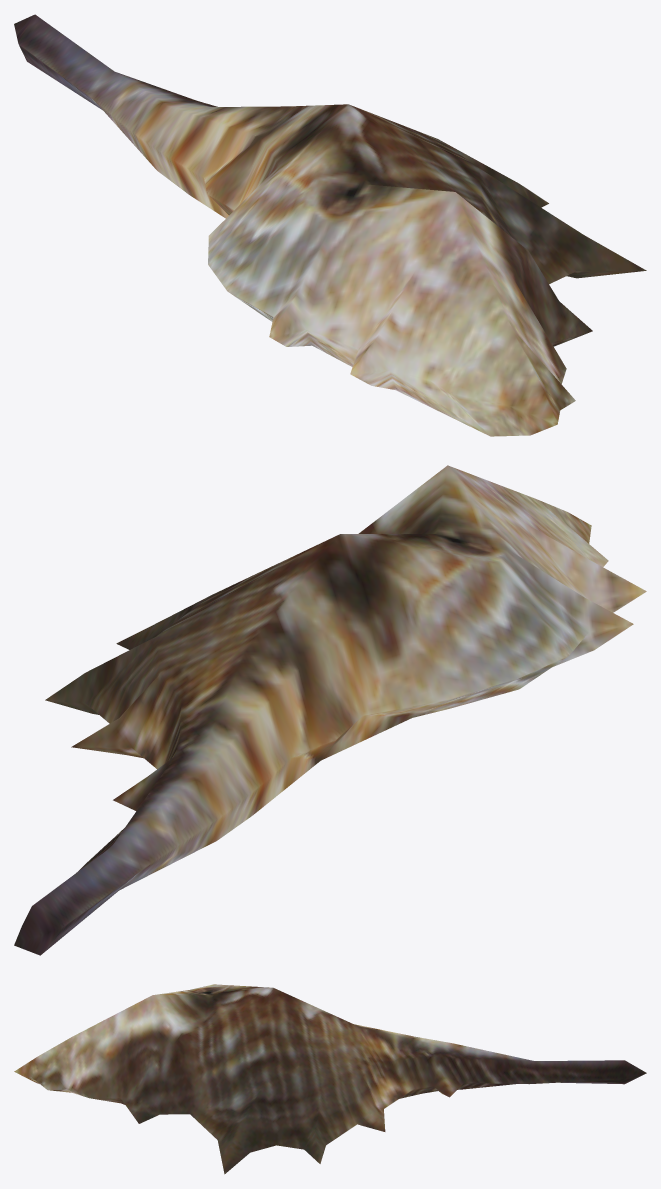
File: SeaShell-08_LOD0_Small.glb
The picture shows the model from 3 angles, top to bottom: view 1: azimuth 30°, elevation 25°; view 2: azimuth 150°, elevation 25°; view 3: azimuth 270°, elevation 25°; orthographic projection. The views are drawn at different scales.
Parts seen in each view (by area): view 1: SeaShell-08_high; view 2: SeaShell-08_high; view 3: SeaShell-08_high.
Part boxes in pixels (bbox=[...]): SeaShell-08_high: bbox=[14, 14, 646, 436]; SeaShell-08_high: bbox=[14, 465, 646, 955]; SeaShell-08_high: bbox=[14, 984, 646, 1174].
Size of the model in its own units: 0.0147 by 0.0064 by 0.032.
1 material, 1 textured.
